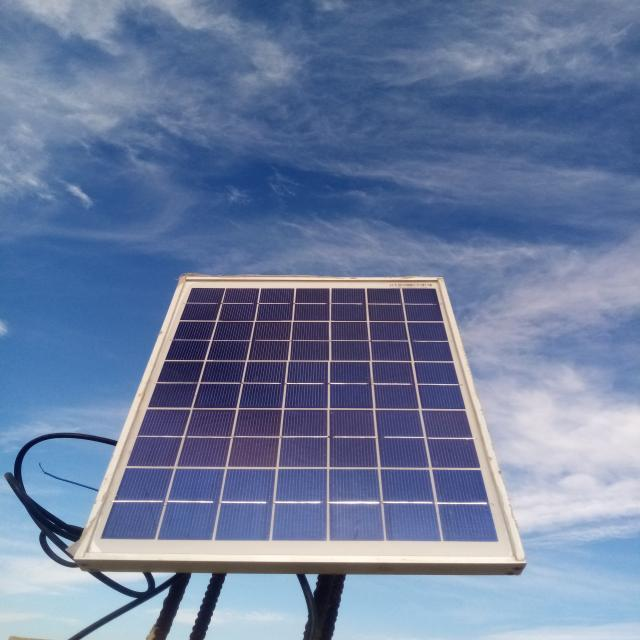no faulty: (78, 276, 521, 560)
